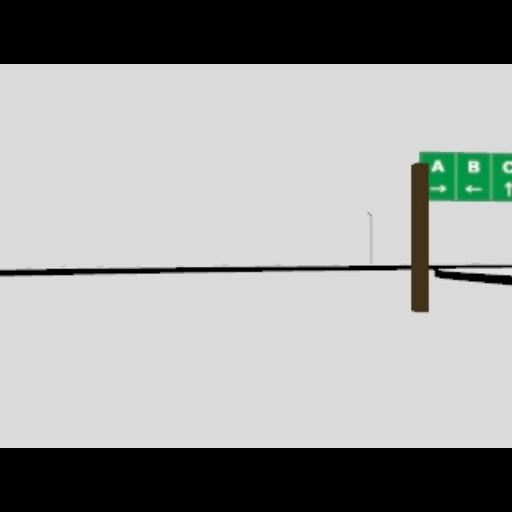A: (431, 158, 445, 172)
B: (468, 160, 480, 172)
C: (500, 160, 512, 172)
Left: (464, 184, 482, 192)
Right: (429, 184, 447, 192)
Straight: (504, 182, 512, 198)
